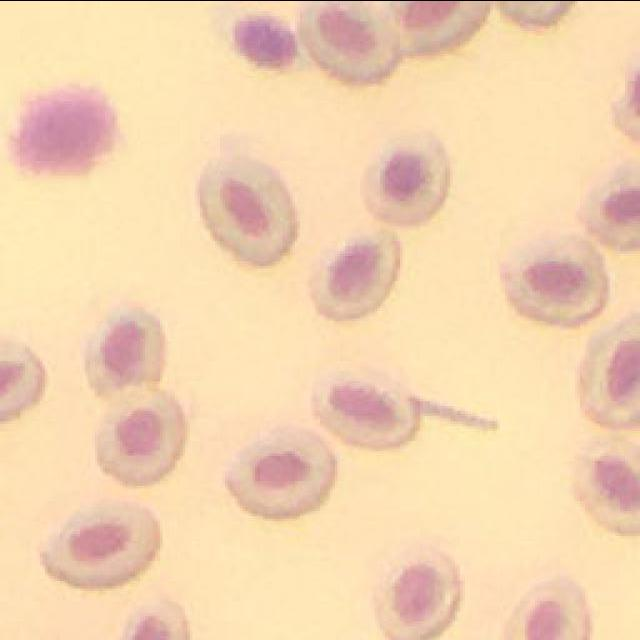RBC: (198, 156, 297, 262), (40, 502, 160, 588), (228, 428, 335, 518), (502, 235, 609, 322), (312, 370, 421, 448), (375, 545, 461, 640), (300, 0, 402, 80), (95, 392, 185, 482), (310, 230, 400, 318), (365, 135, 450, 222), (580, 313, 640, 425), (85, 308, 162, 390), (573, 438, 640, 532), (582, 158, 640, 248), (392, 0, 490, 52), (508, 580, 592, 640), (0, 342, 42, 420), (122, 600, 189, 640)
WBC: (12, 85, 115, 170), (235, 15, 298, 65)
